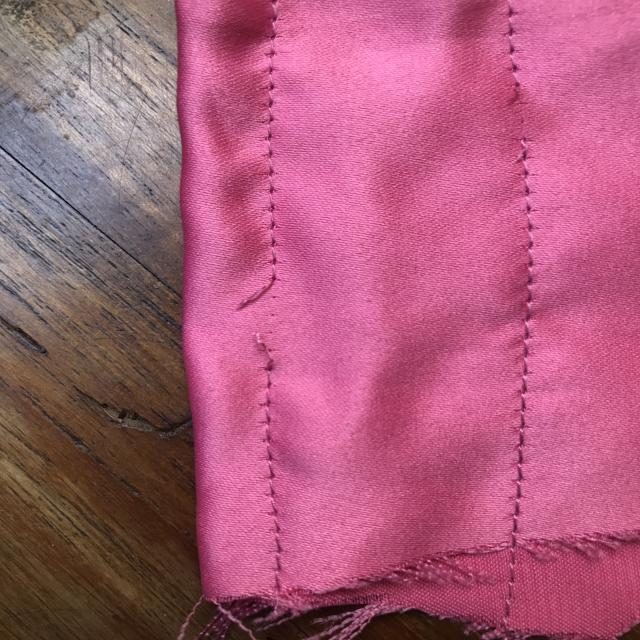broken: (222, 256, 313, 376)
